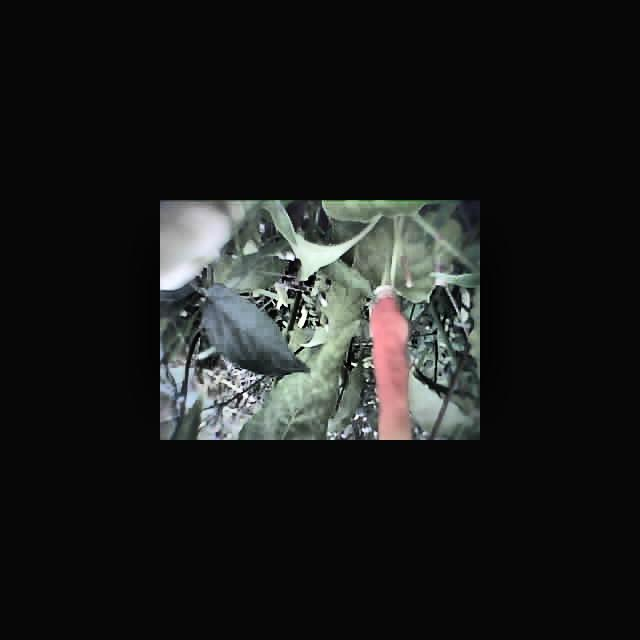Cabai: (370, 290, 416, 440)
